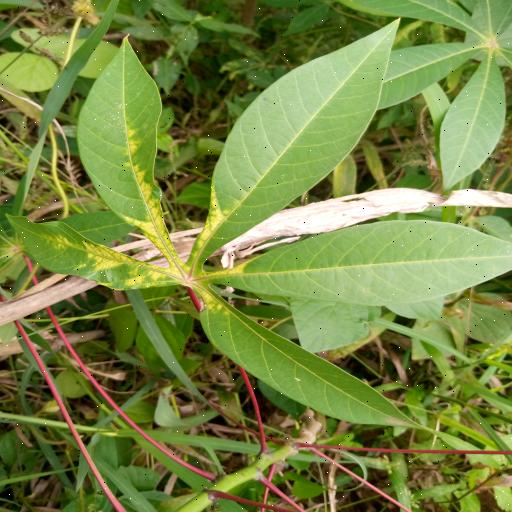Cassava_Healthy: (348, 0, 512, 186)
Cassava_Mosaic: (5, 24, 512, 434)
